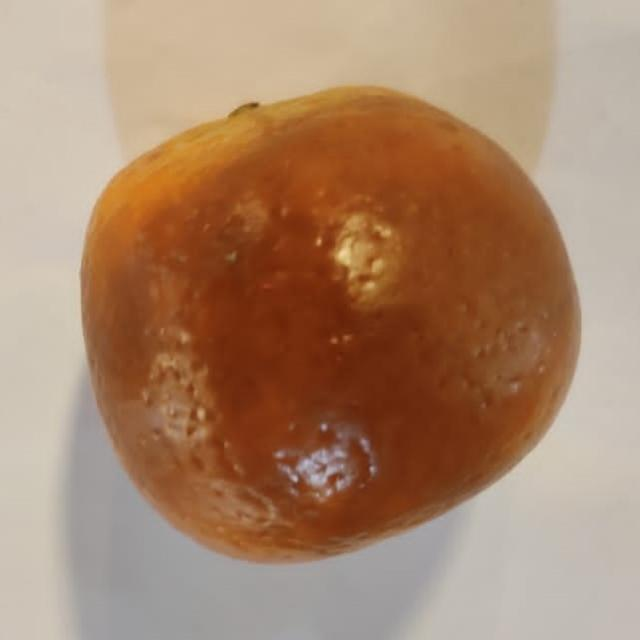orange: (82, 88, 579, 561)
